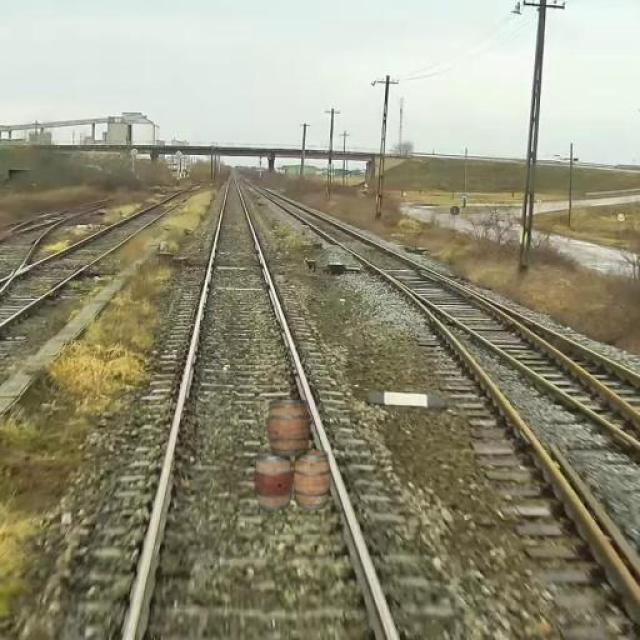Other_objects: (266, 389, 312, 458), (294, 441, 334, 518), (252, 453, 295, 516)
